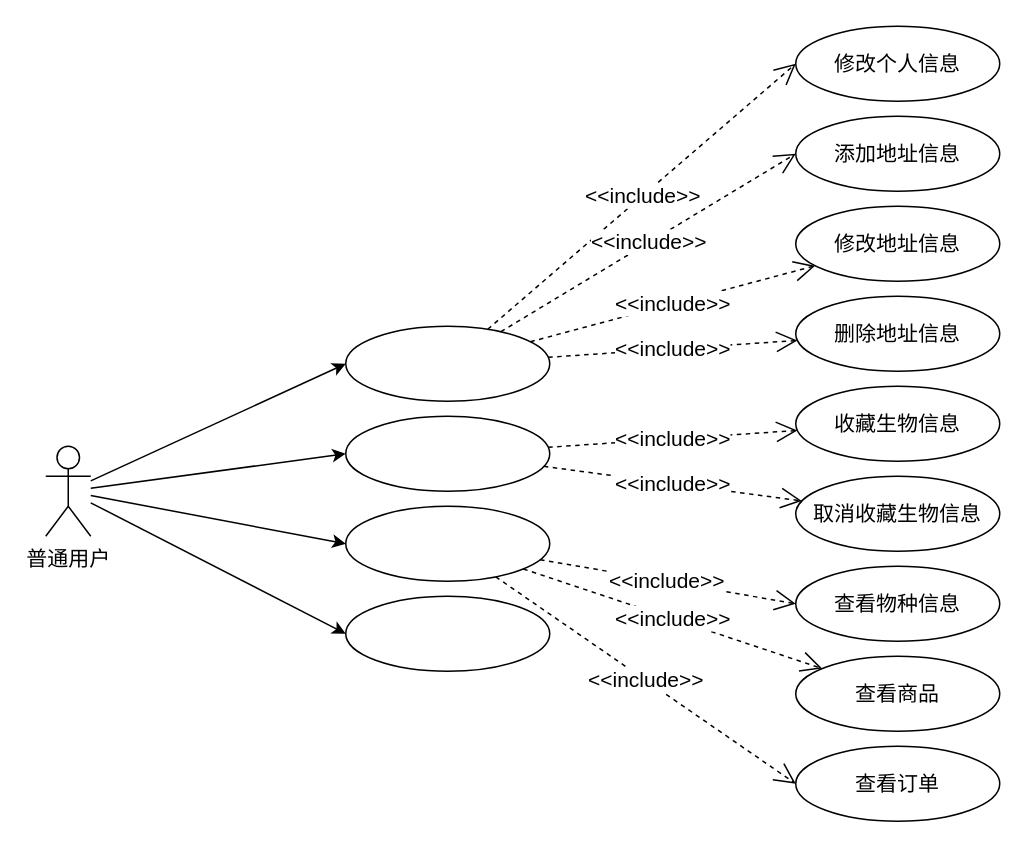
This 1026x848 diagram has some shape labels left out. Each missing label, with the centre of its shape:
收藏: (447,453)
查看: (447,543)
维护个人信息: (447,363)
购买商品: (447,633)
